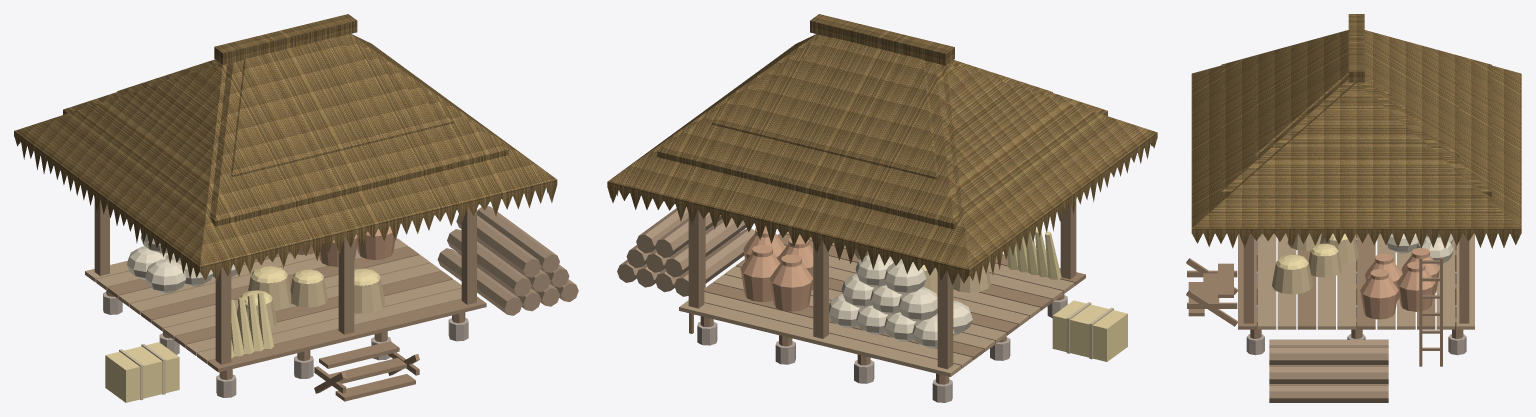
The model's file is storehouse.glb.
3 views of the same model, side by side, from view 1: azimuth 30°, elevation 25°; view 2: azimuth 150°, elevation 25°; view 3: azimuth 270°, elevation 25° (orthographic). The views are drawn at different scales.
Parts seen in each view (by area): view 1: Store-house; view 2: Store-house; view 3: Store-house.
Part boxes in pixels (left/top/right/bottom): Store-house: left=14, top=14, right=578, bottom=402; Store-house: left=607, top=14, right=1157, bottom=402; Store-house: left=1186, top=14, right=1521, bottom=402.
Size of the model in its own units: 9.92 by 6.4 by 7.28.
10 materials, 1 textured.
